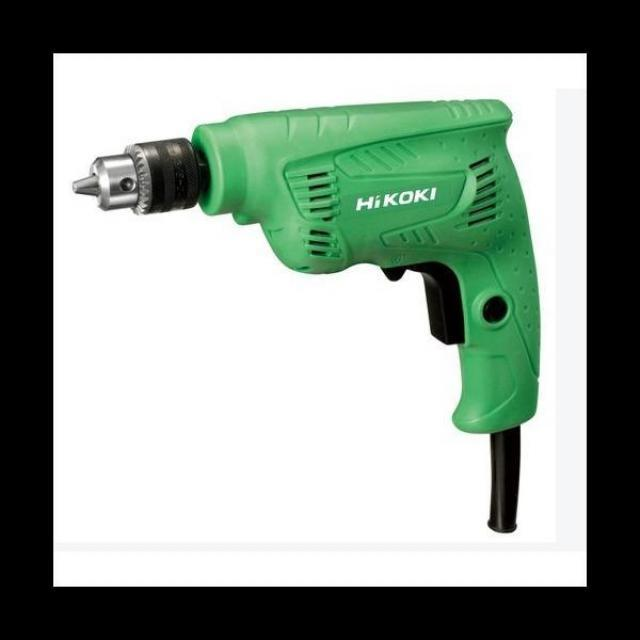drill: (70, 97, 542, 534)
